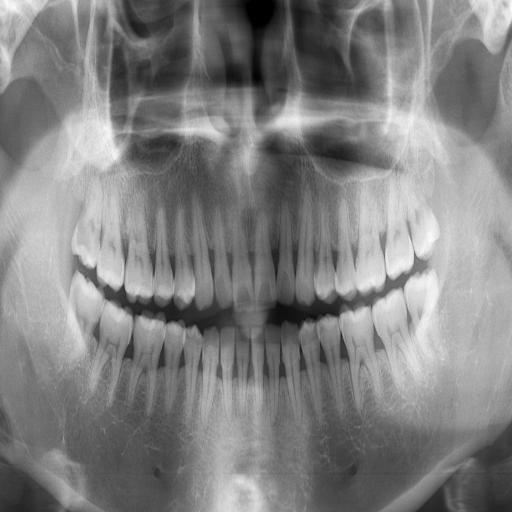Wisdom teeth: (72, 184, 102, 268), (69, 273, 104, 342), (405, 270, 436, 328), (408, 205, 438, 259)
